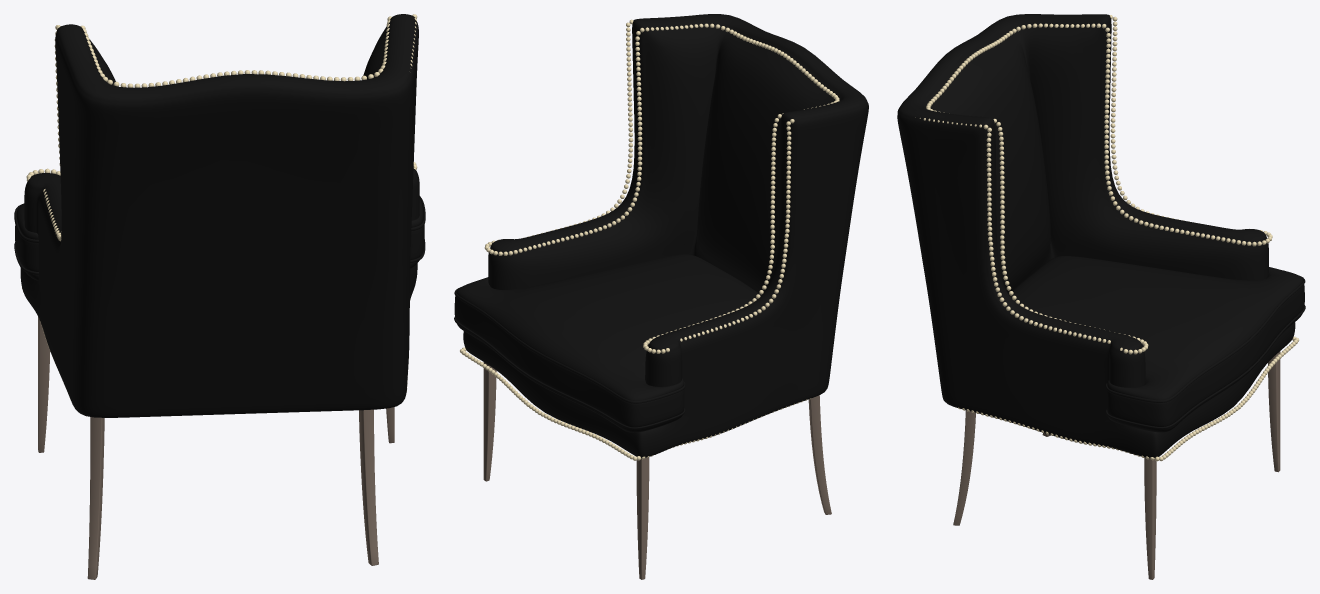
File: Chair.fbx
3 views of the same model, side by side, from view 1: azimuth 30°, elevation 25°; view 2: azimuth 150°, elevation 25°; view 3: azimuth 270°, elevation 25° (orthographic). The views are drawn at different scales.
Visible parts, largest first — view 1: Sphere004; view 2: Sphere004; view 3: Sphere004.
Boxes of the visible parts, x1,y1,x2,y2 form: Sphere004: (14,14,425,579); Sphere004: (454,14,868,579); Sphere004: (897,14,1305,579).
Size of the model in its own units: 93.18 by 110 by 95.67.
